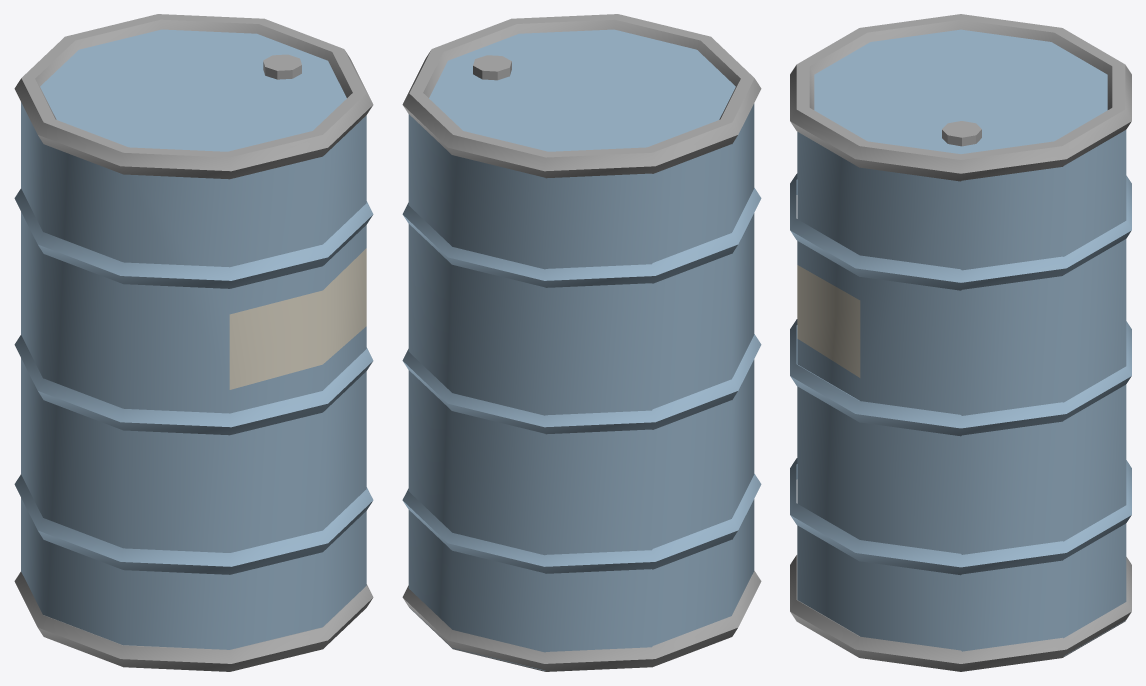
The model's file is props8.fbx.
3 views of the same model, side by side, from view 1: azimuth 30°, elevation 25°; view 2: azimuth 150°, elevation 25°; view 3: azimuth 270°, elevation 25° (orthographic).
Visible parts, largest first — view 1: Torus_5; view 2: Torus_5; view 3: Torus_5.
Boxes of the visible parts, box(x1,y1,x2,y2) form: Torus_5: box(14, 14, 373, 671); Torus_5: box(402, 14, 761, 671); Torus_5: box(790, 14, 1131, 671).
Bounding box in the file's own units: 84.26 × 133 × 80.14.
